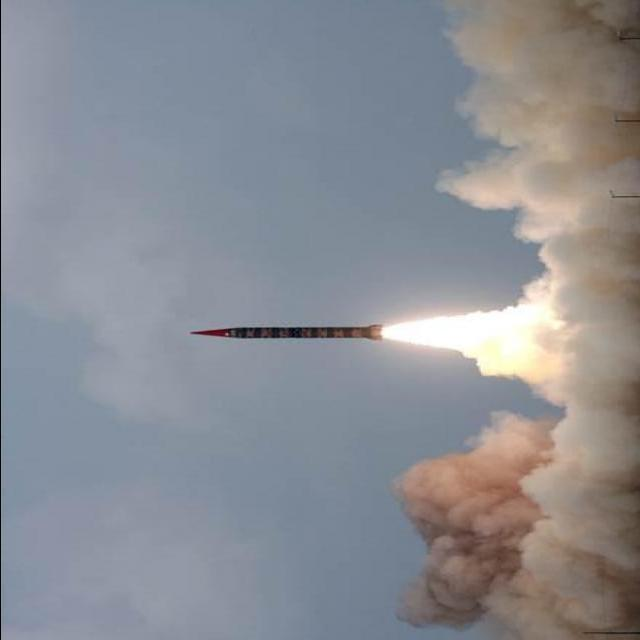missile: (192, 323, 378, 347)
